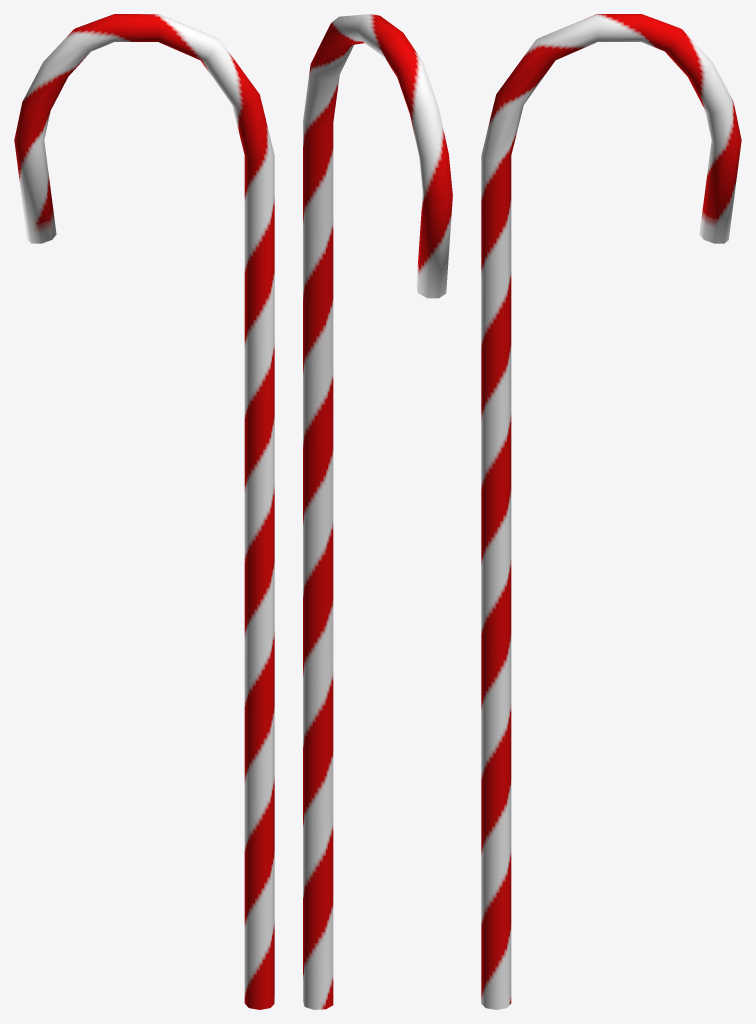
The model's file is candy cane decor.fbx.
The picture shows the model from 3 angles, left to right: view 1: azimuth 90°, elevation 25°; view 2: azimuth 210°, elevation 25°; view 3: azimuth 270°, elevation 25°; orthographic projection. The views are drawn at different scales.
Parts seen in each view (by area): view 1: candy-cane-decor; view 2: candy-cane-decor; view 3: candy-cane-decor.
Boxes of the visible parts, x1=… form: candy-cane-decor: x1=14, y1=14, x2=274, y2=1009; candy-cane-decor: x1=303, y1=14, x2=452, y2=1009; candy-cane-decor: x1=481, y1=14, x2=741, y2=1009.
Size of the model in its own units: 2.61 by 94.91 by 22.64.
